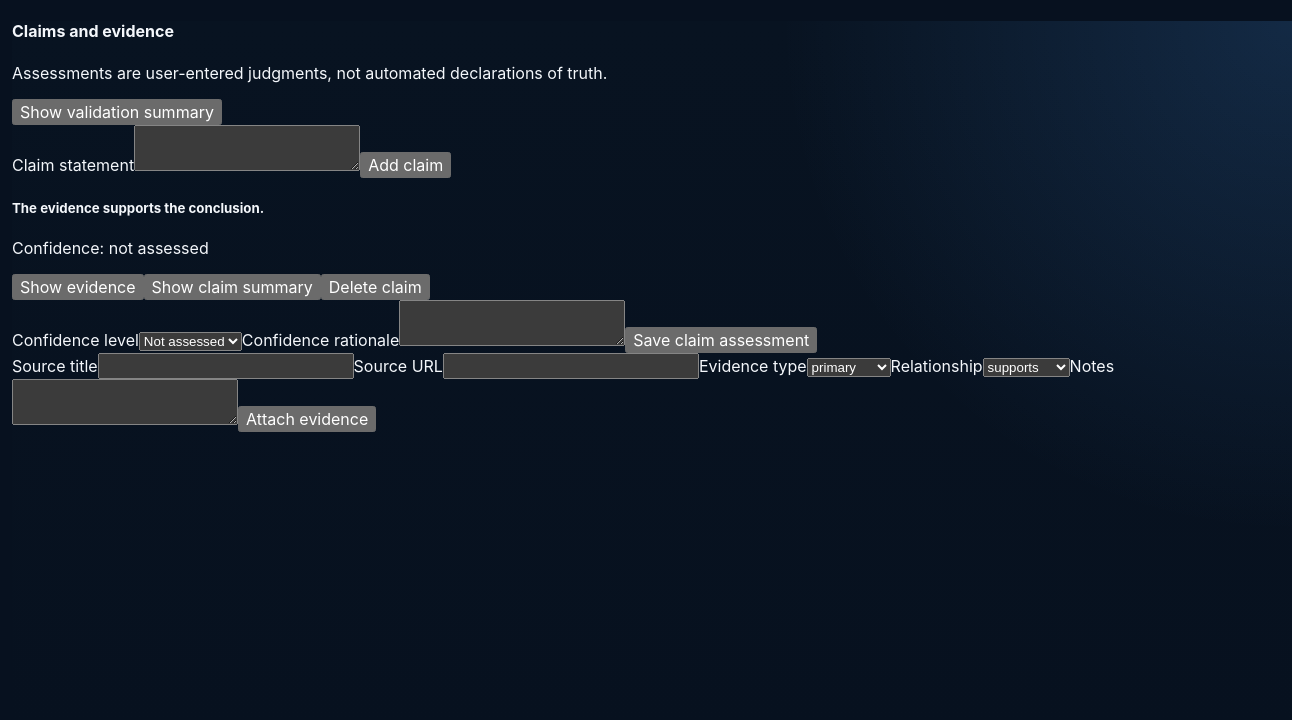
Test: ClaimEvidencePanel › loads and deletes owner-scoped claim data
Expected: the heading "The evidence supports the conclusion." is shown, [12,200,264,216]
Click the button "Show evidence" at point(78, 287), box [12,274,144,300]
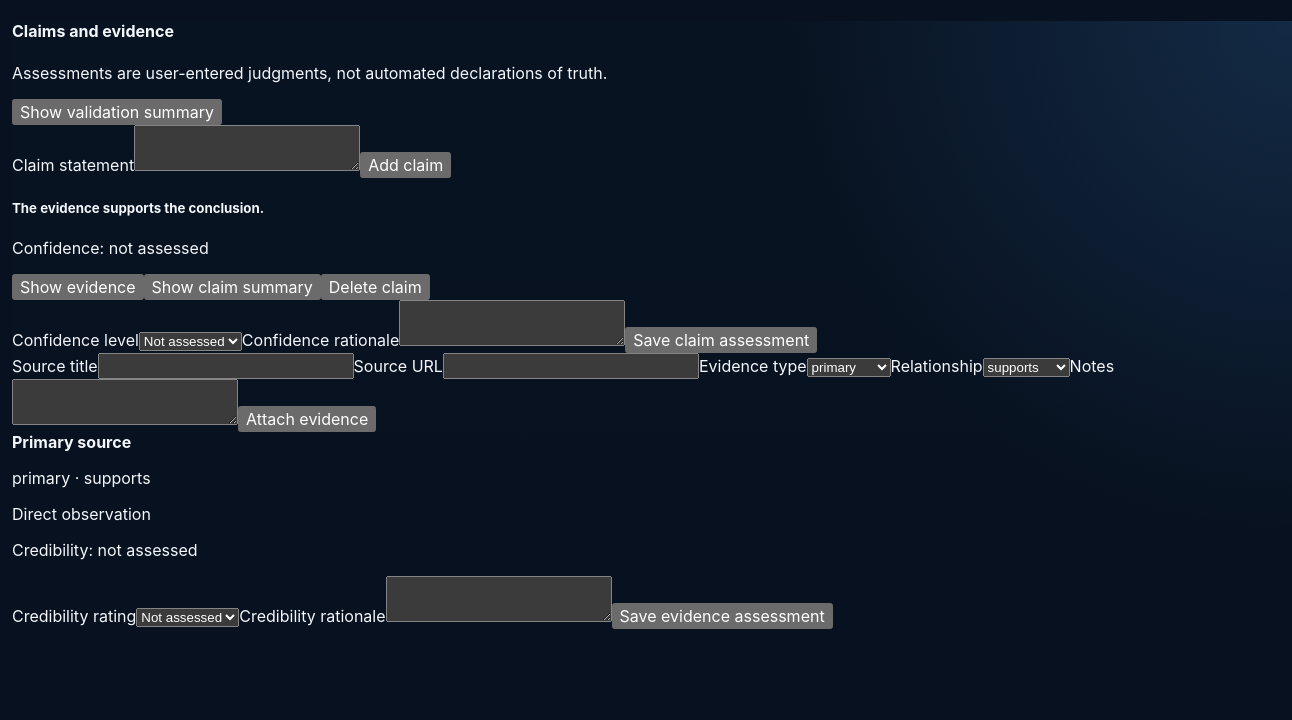
Click the button "Delete claim" at point(375, 287), box [321,274,430,300]
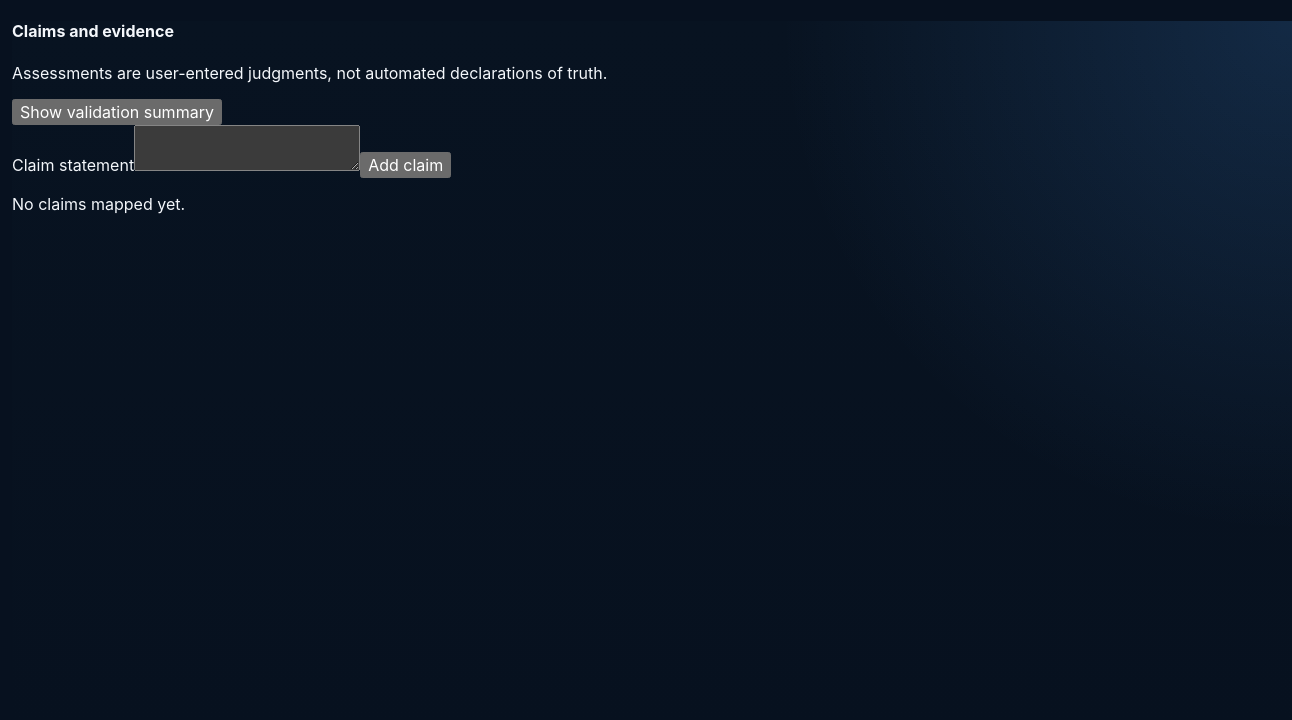
Expected: the heading "The evidence supports the conclusion." is gone
